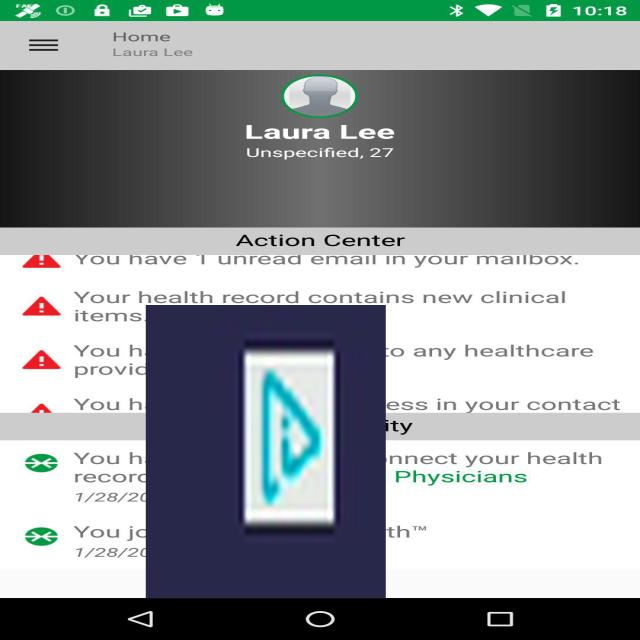sneaking: (146, 305, 386, 598)
